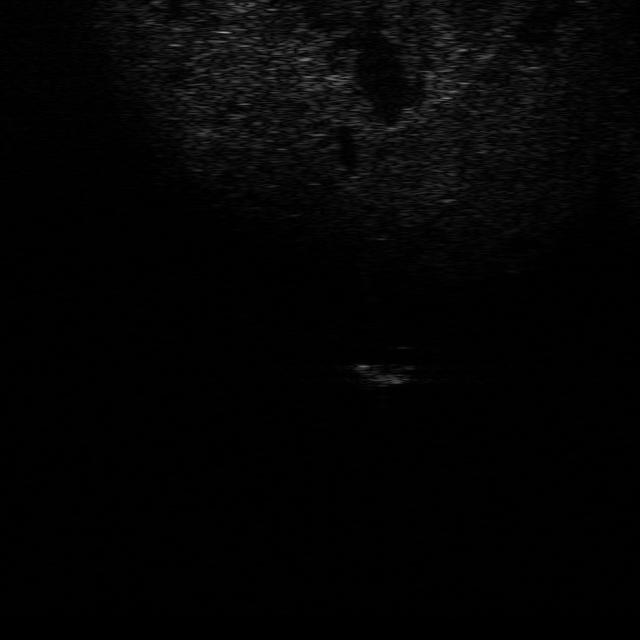cube: (348, 361, 417, 386)
